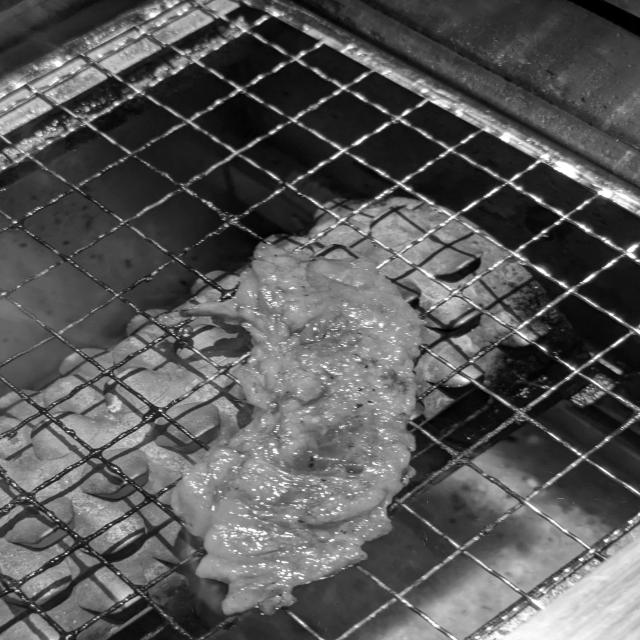NG undercooked beef,: (151, 234, 456, 630)
